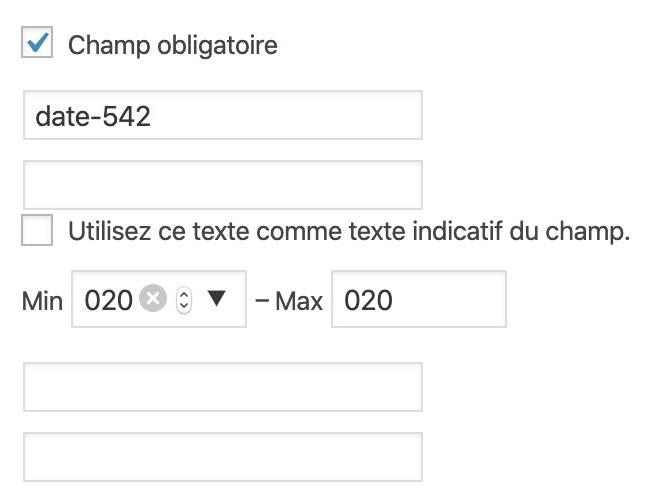checkbox: (16, 22, 59, 60), (20, 212, 54, 249)
checkbox_with_label: (16, 210, 633, 253), (12, 18, 278, 65)
field: (22, 361, 429, 414), (20, 431, 425, 484), (22, 89, 426, 141), (22, 159, 425, 210), (329, 266, 509, 331), (68, 267, 248, 331)
field_with_label: (277, 264, 516, 335), (20, 263, 253, 334)
